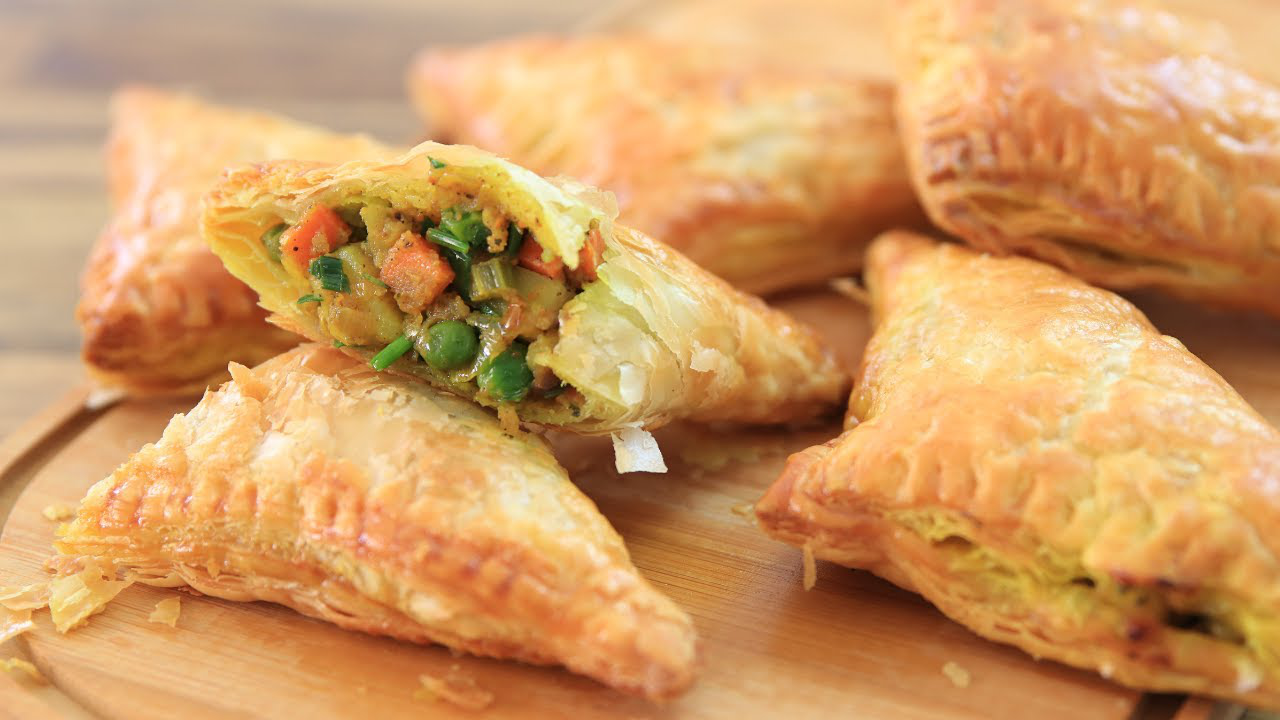Curry Puff: (756, 202, 1278, 700), (191, 130, 870, 453), (72, 345, 694, 693)
